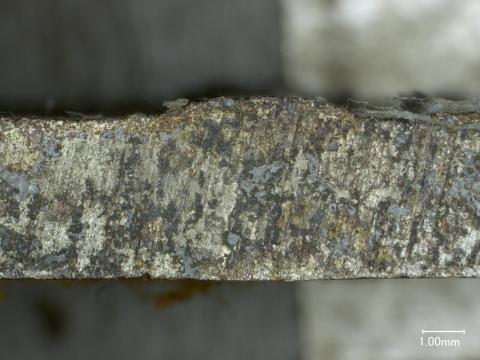test: (124, 98, 361, 119)
